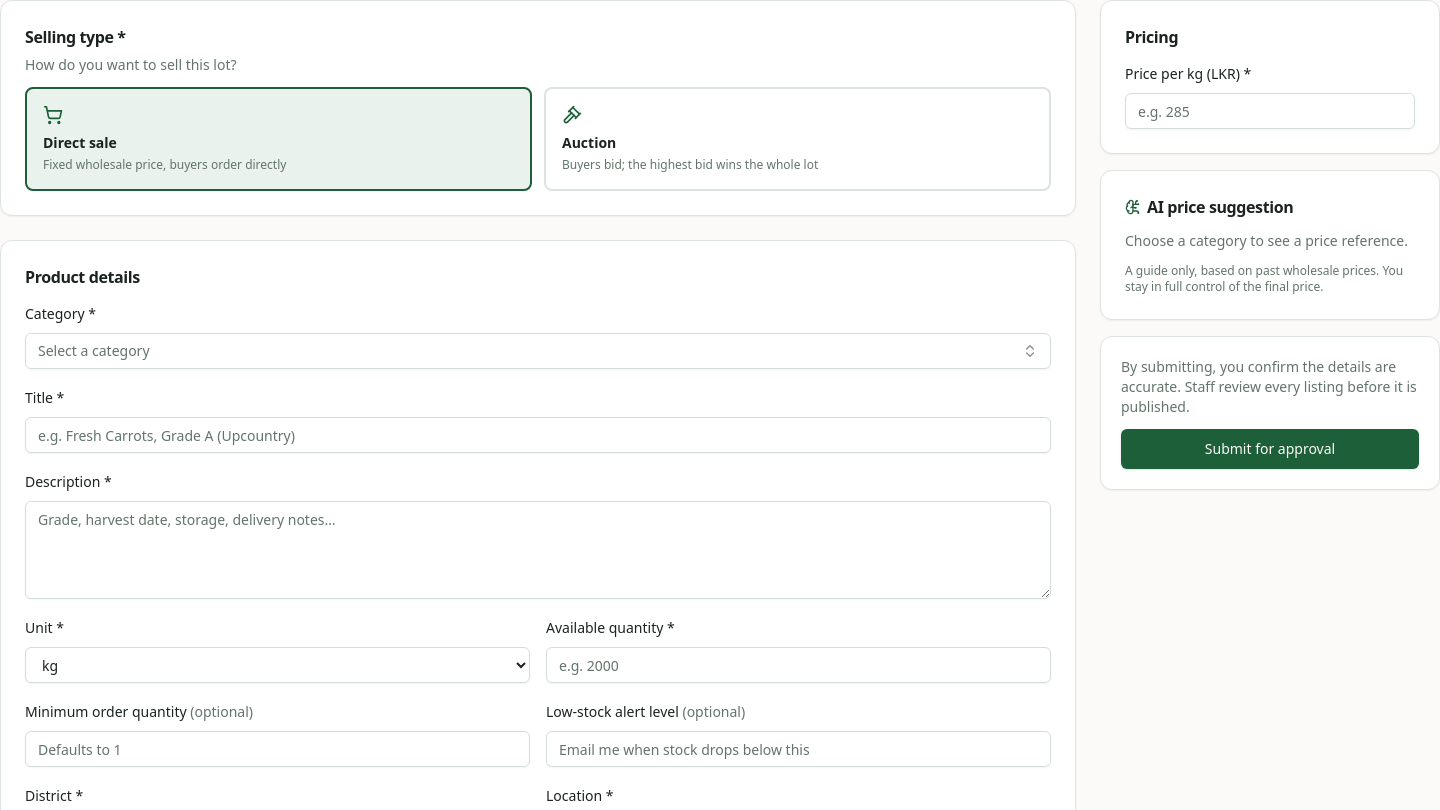
Test: ListingForm: creating › says there is no suggestion when the category has no price reference
Click the dropdown labelled "Select a category" at (94, 350), box 25,333 -> 1051,369
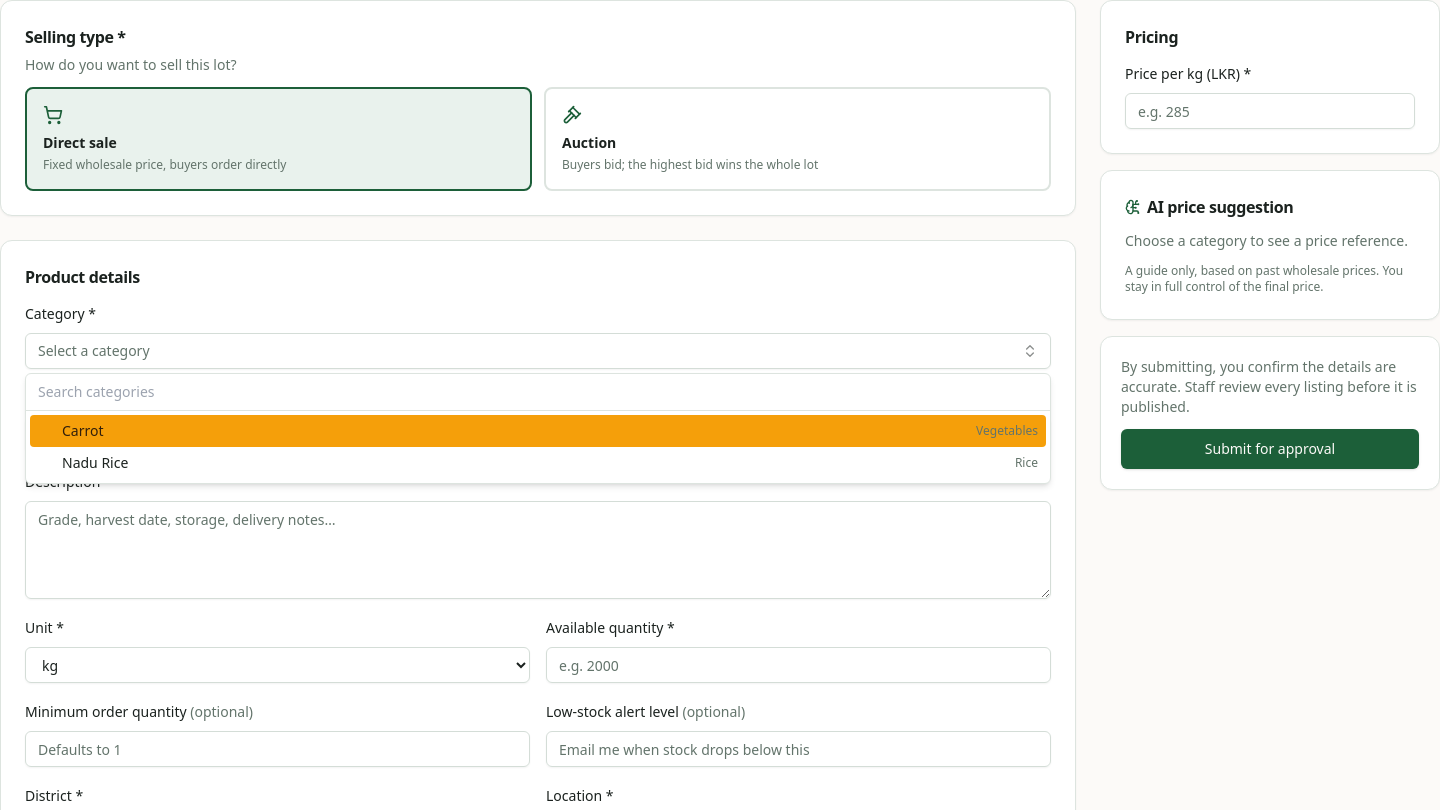
Click the option "Carrot Vegetables" at (83, 430), box 30,415 -> 1046,447
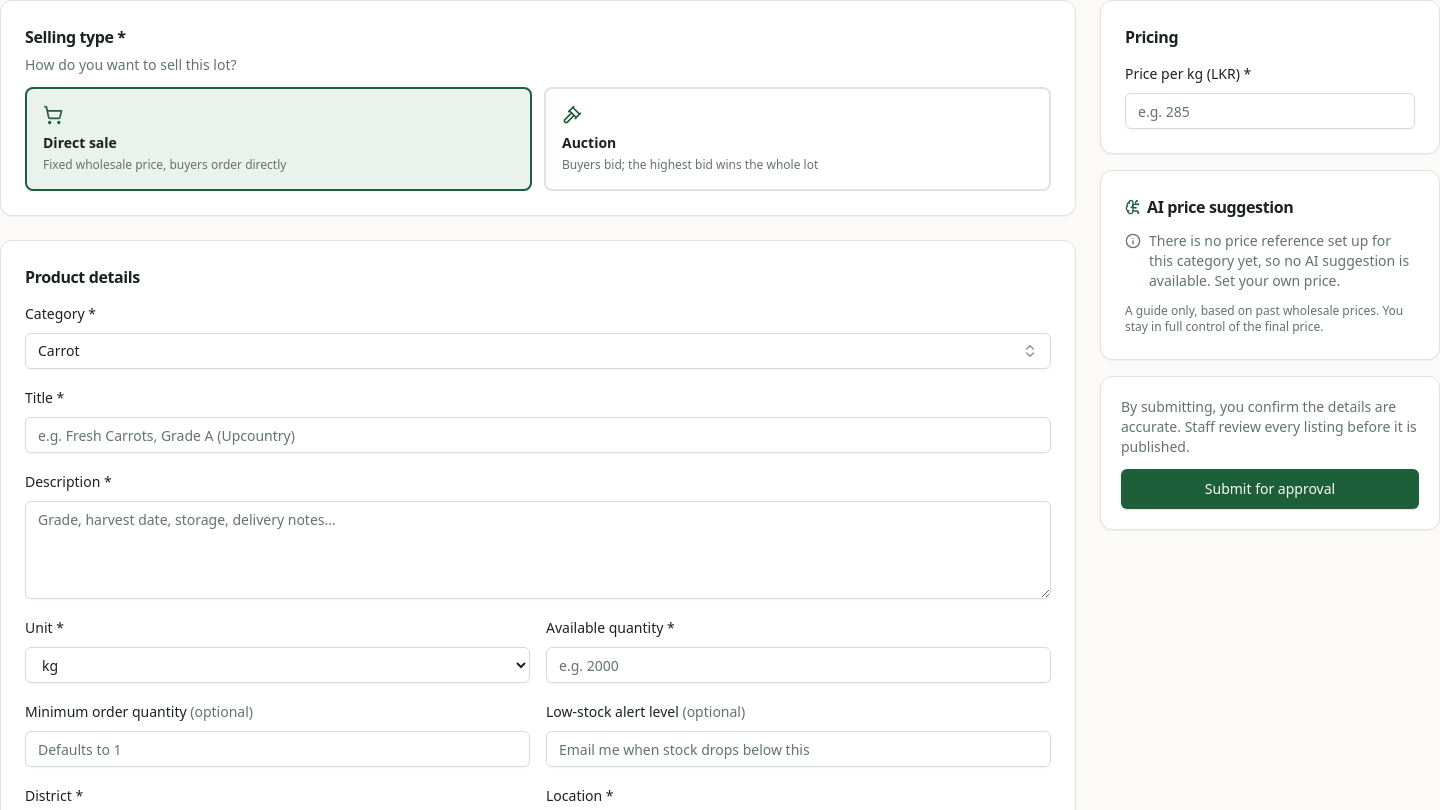
Check: the text "no price reference set up" is shown, box 1149,231 -> 1409,290
